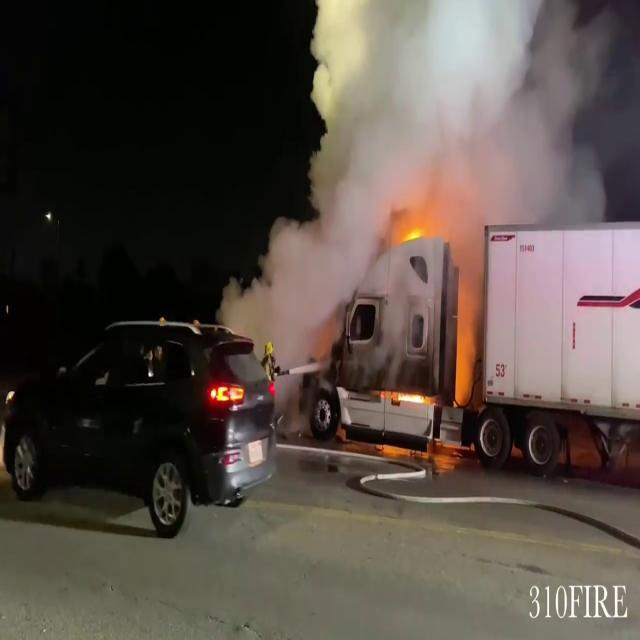Fire: (382, 382, 436, 410)
Smoke: (243, 0, 640, 330)
